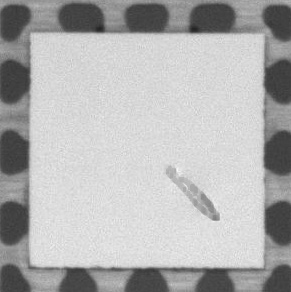DIE_INK: (156, 159, 226, 229)
